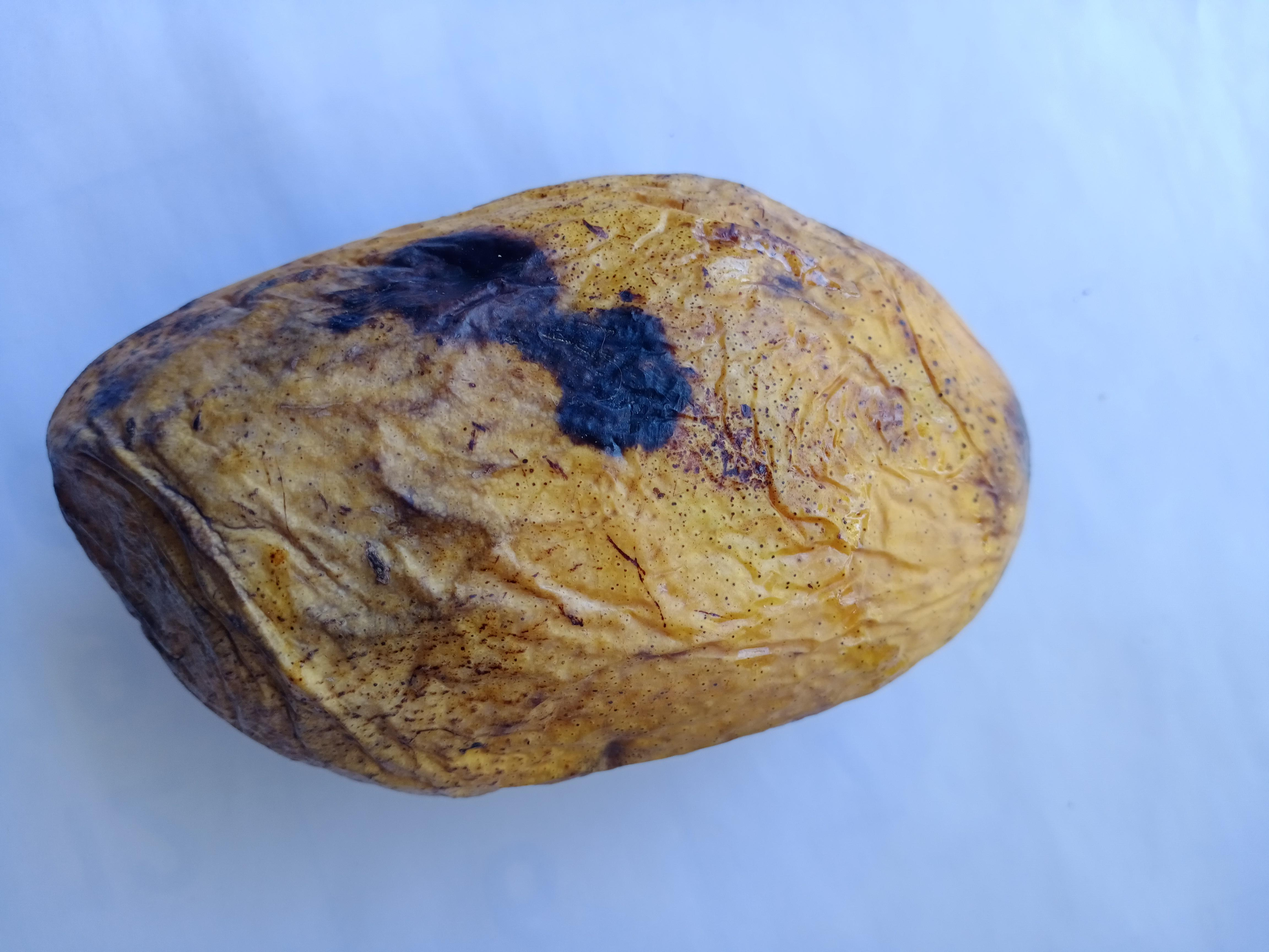Mango Overripe: (39, 116, 1049, 824)
